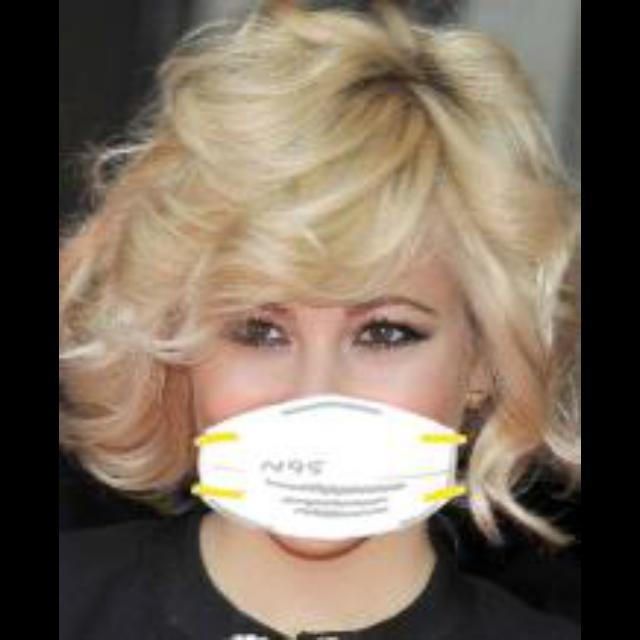suspicion: (154, 100, 474, 524)
